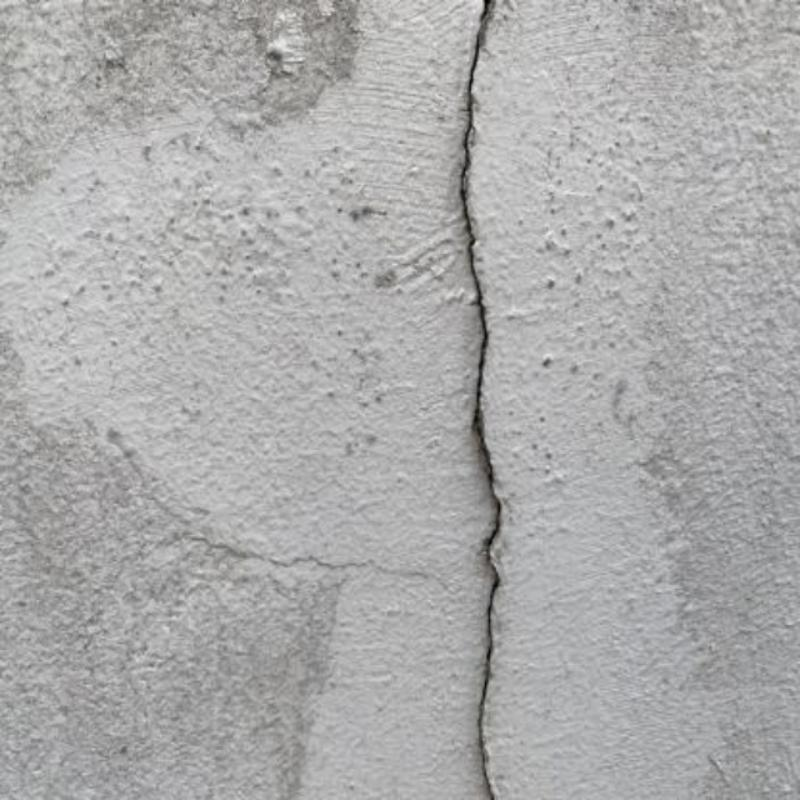pothole: (459, 3, 503, 799)
